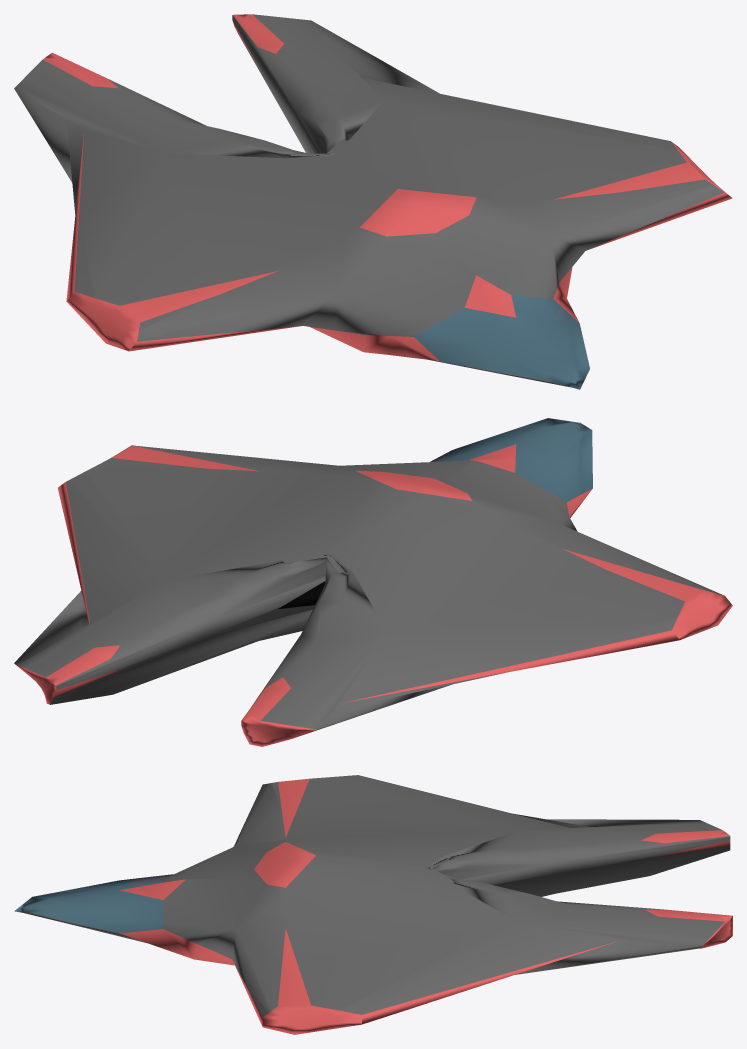
File: FighterRed.fbx
3 renders of one model, top to bottom at view 1: azimuth 30°, elevation 25°; view 2: azimuth 150°, elevation 25°; view 3: azimuth 270°, elevation 25°, orthographic. The views are drawn at different scales.
Visible parts, largest first — view 1: pCube1; view 2: pCube1; view 3: pCube1.
Boxes of the visible parts, box(x1,y1,x2,y2) form: pCube1: box(14, 14, 732, 389); pCube1: box(14, 418, 732, 746); pCube1: box(14, 775, 732, 1034).
Size of the model in its own units: 4.82 by 0.8789 by 5.88.
